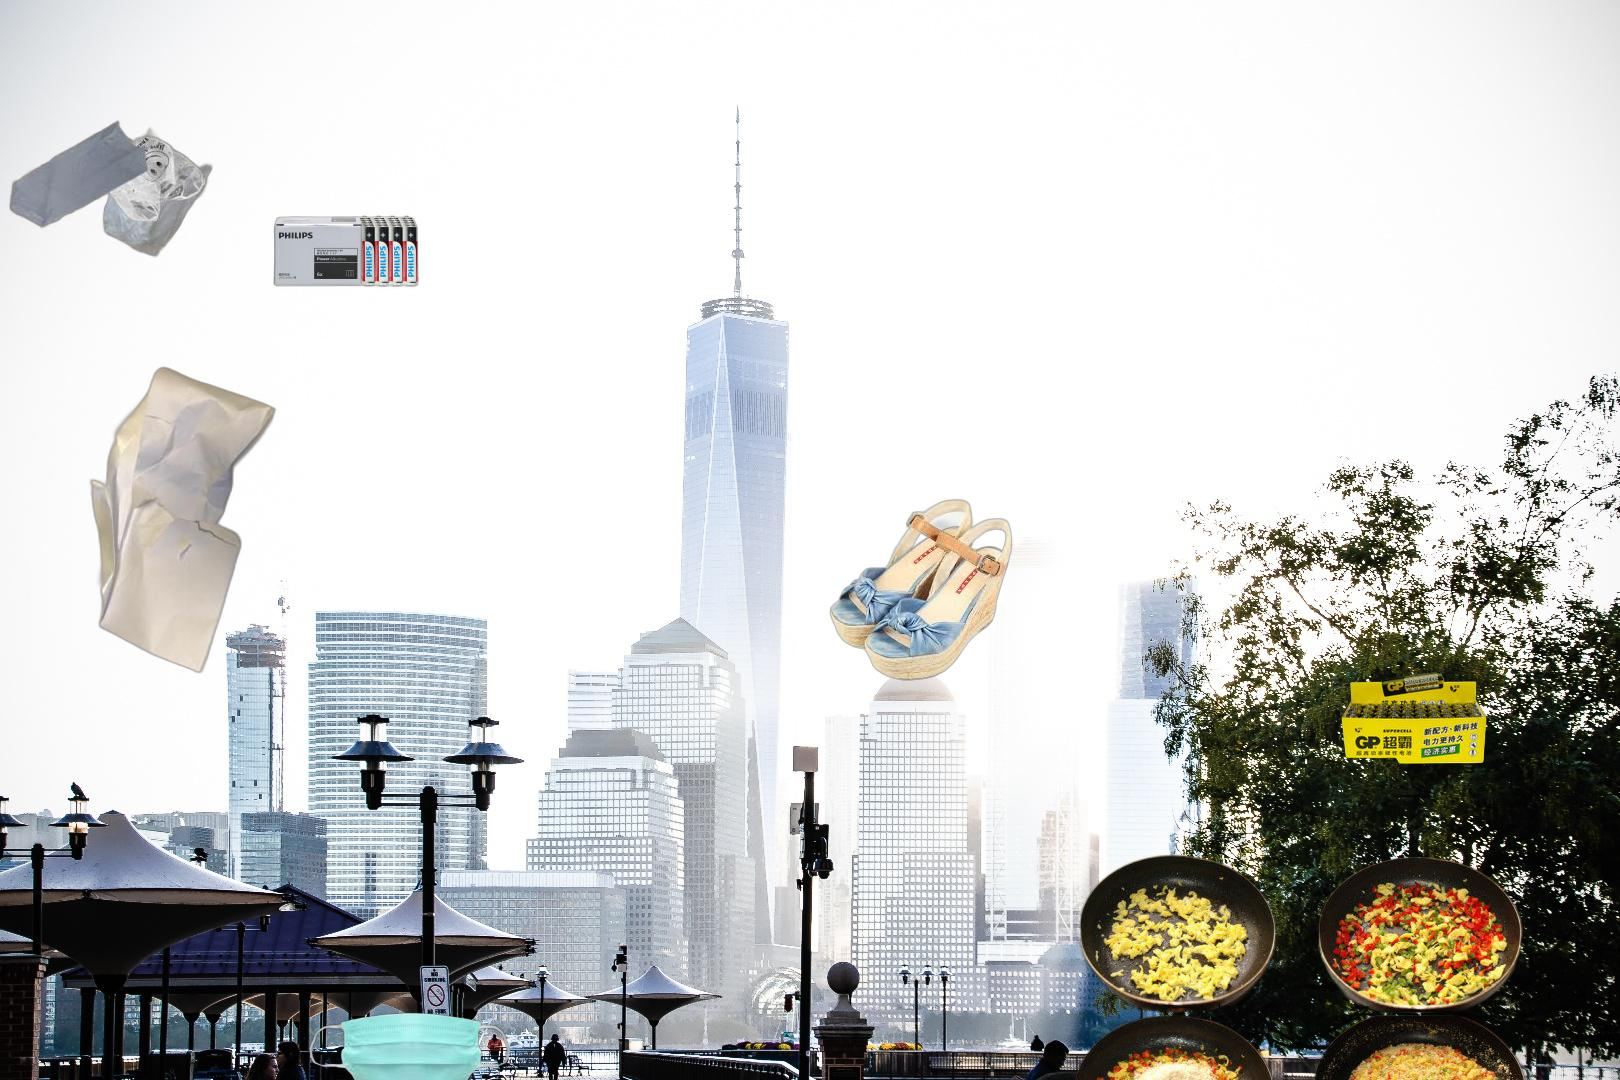battery: (1339, 669, 1489, 767), (271, 213, 421, 289)
biological: (1072, 852, 1531, 1080)
paper: (86, 364, 280, 675)
plastic-bag: (7, 118, 215, 259)
shoes: (827, 498, 1015, 683), (876, 1066, 1226, 1080)
trash: (303, 1010, 513, 1080)
